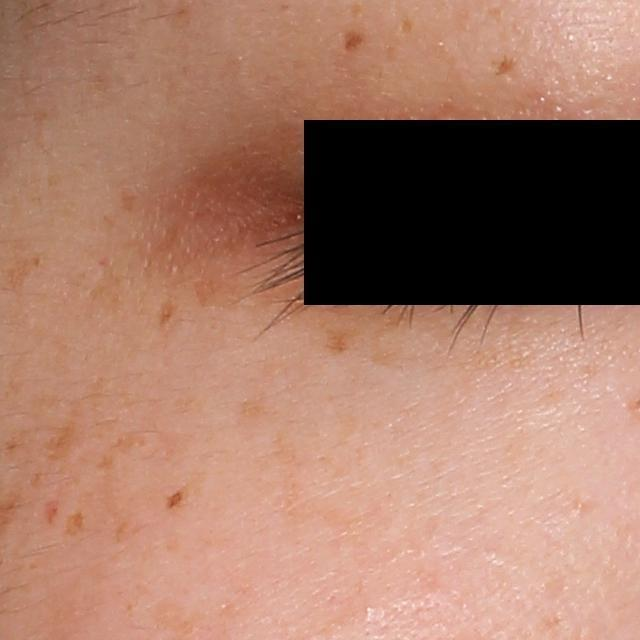melasma: (267, 432, 326, 538), (1, 241, 47, 304), (186, 271, 243, 314), (365, 341, 425, 378), (42, 418, 79, 464), (236, 390, 273, 427), (1, 425, 39, 458), (158, 284, 182, 332), (108, 429, 149, 457), (324, 327, 360, 356), (340, 28, 373, 57), (163, 485, 191, 516), (491, 53, 520, 80), (61, 507, 86, 538), (116, 186, 139, 218), (28, 464, 49, 490), (113, 515, 128, 547), (95, 455, 119, 474), (347, 0, 367, 22), (400, 14, 415, 40)
